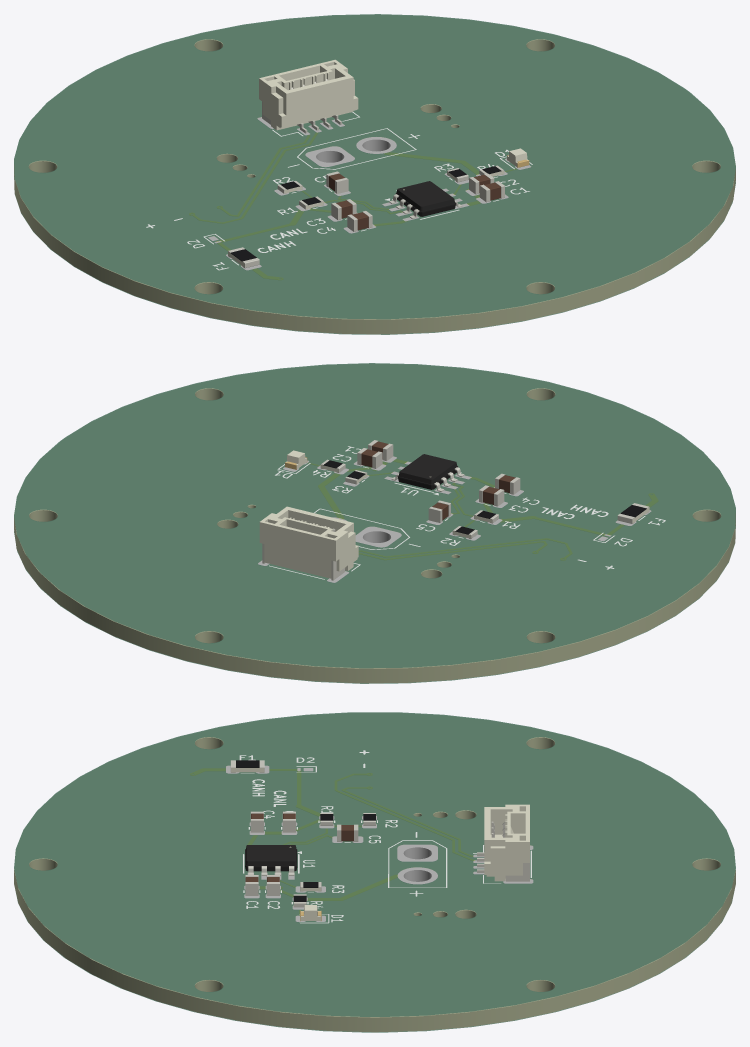
The model's file is pcb-annular.glb.
3 renders of one model, top to bottom at view 1: azimuth 30°, elevation 25°; view 2: azimuth 150°, elevation 25°; view 3: azimuth 270°, elevation 25°, orthographic.
Visible parts, largest first — view 1: =>[0:1:1:20], =>[0:1:1:18], =>[0:1:1:5], =>[0:1:1:15], =>[0:1:1:9], =>[0:1:1:17], =>[0:1:1:14], =>[0:1:1:19]; view 2: =>[0:1:1:20], =>[0:1:1:18], =>[0:1:1:5], =>[0:1:1:15], =>[0:1:1:9], =>[0:1:1:17], =>[0:1:1:14], =>[0:1:1:19]; view 3: =>[0:1:1:20], =>[0:1:1:18], =>[0:1:1:5], =>[0:1:1:15], =>[0:1:1:17], =>[0:1:1:9], =>[0:1:1:14], =>[0:1:1:19].
Boxes of the visible parts, bbox=[...] form: =>[0:1:1:20]: bbox=[14, 15, 735, 334]; =>[0:1:1:18]: bbox=[14, 14, 735, 319]; =>[0:1:1:5]: bbox=[259, 59, 358, 133]; =>[0:1:1:15]: bbox=[208, 117, 530, 270]; =>[0:1:1:9]: bbox=[389, 181, 462, 218]; =>[0:1:1:17]: bbox=[146, 112, 532, 270]; =>[0:1:1:14]: bbox=[189, 133, 515, 279]; =>[0:1:1:19]: bbox=[14, 177, 735, 334]; =>[0:1:1:20]: bbox=[14, 364, 735, 683]; =>[0:1:1:18]: bbox=[14, 363, 735, 668]; =>[0:1:1:5]: bbox=[259, 506, 358, 580]; =>[0:1:1:15]: bbox=[258, 456, 651, 582]; =>[0:1:1:9]: bbox=[391, 454, 464, 491]; =>[0:1:1:17]: bbox=[269, 446, 665, 579]; =>[0:1:1:14]: bbox=[312, 459, 657, 560]; =>[0:1:1:19]: bbox=[14, 526, 735, 683]; =>[0:1:1:20]: bbox=[14, 713, 735, 1032]; =>[0:1:1:18]: bbox=[14, 712, 735, 1016]; =>[0:1:1:5]: bbox=[477, 804, 529, 881]; =>[0:1:1:15]: bbox=[226, 765, 533, 921]; =>[0:1:1:17]: bbox=[239, 750, 531, 923]; =>[0:1:1:9]: bbox=[245, 845, 297, 875]; =>[0:1:1:14]: bbox=[190, 769, 474, 913]; =>[0:1:1:19]: bbox=[15, 892, 734, 1032].
Size of the model in its own units: 0.0674 by 0.00584 by 0.0675.
